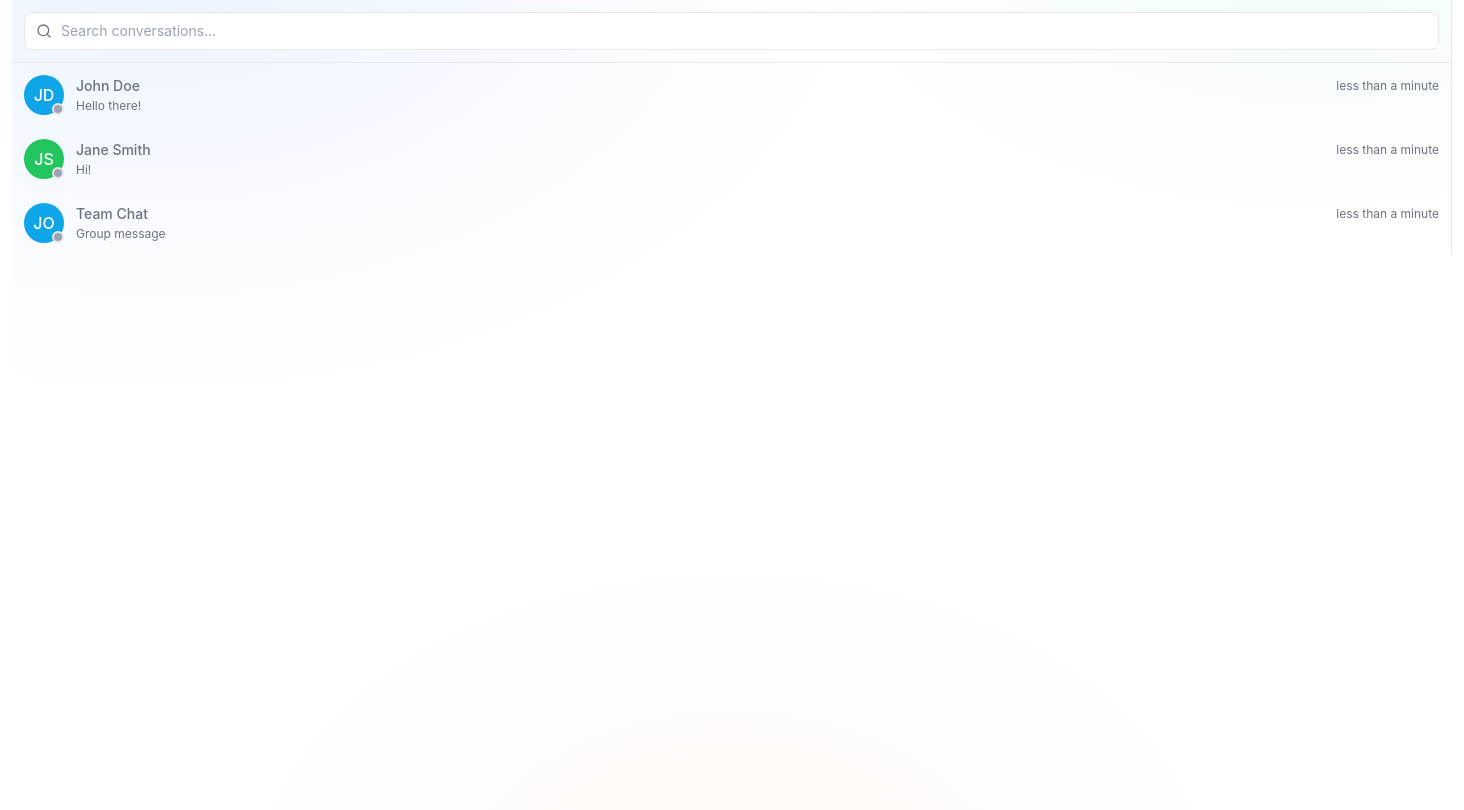
it: ConversationList › Search Functionality › filters conversations by participant name
Type "John" into the field with placeholder "Search conversations...".
click(732, 31); type("John")  # box [24, 12, 1439, 50]
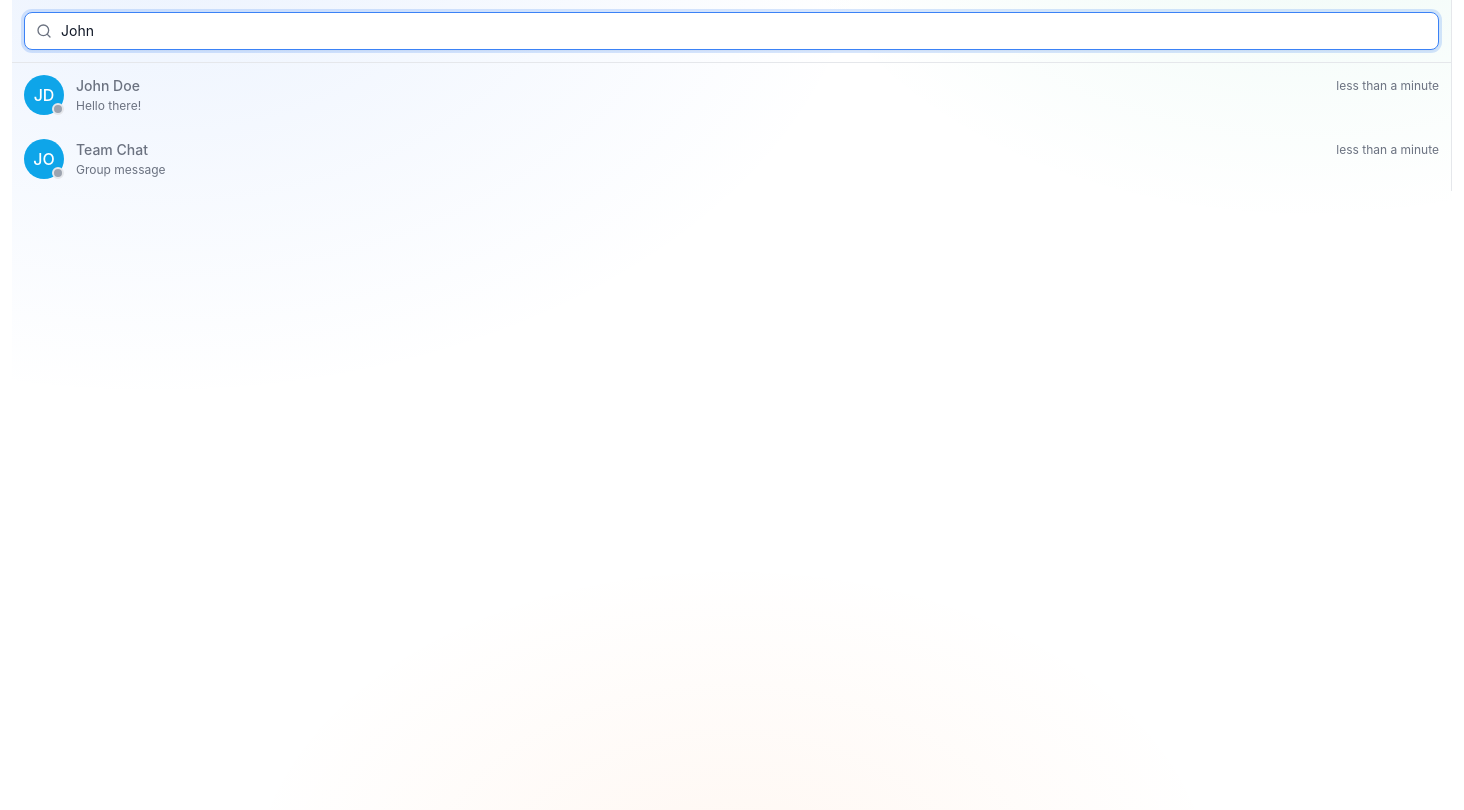
Expected: the text "John Doe" is shown, [76, 76, 140, 96]
Expected: the button "Jane Smith" is gone
